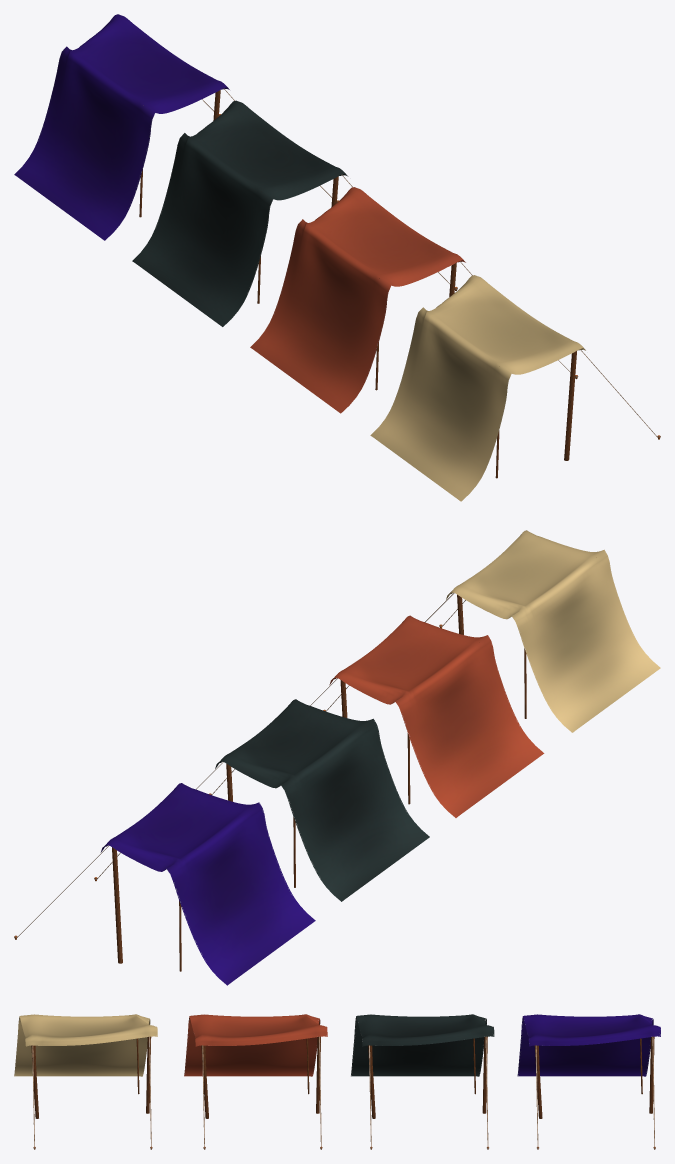
File: TENDA 1.fbx
The picture shows the model from 3 angles, top to bottom: view 1: azimuth 30°, elevation 25°; view 2: azimuth 150°, elevation 25°; view 3: azimuth 270°, elevation 25°; orthographic projection. The views are drawn at different scales.
Visible parts, largest first — view 1: pano tenda, pano tenda.003, pano tenda.002, pano tenda.001, vigas.001; view 2: pano tenda.001, pano tenda.003, pano tenda.002, pano tenda, vigas.002; view 3: pano tenda.001, pano tenda, pano tenda.003, pano tenda.002, vigas.002, vigas, vigas.003, vigas.001, cordas.001, cordas, cordas.003, cordas.002.
Boxes of the visible parts, x1,y1,x2,y2 form: pano tenda: (250,187,465,413); pano tenda.003: (132,100,348,326); pano tenda.002: (14,14,229,240); pano tenda.001: (370,275,585,501); vigas.001: (495,351,576,478); pano tenda.001: (446,530,660,732); pano tenda.003: (215,699,429,901); pano tenda.002: (100,783,315,985); pano tenda: (329,615,544,817); vigas.002: (112,809,251,971); pano tenda.001: (14,1014,157,1076); pano tenda: (184,1014,327,1076); pano tenda.003: (351,1014,494,1076); pano tenda.002: (517,1014,660,1076); vigas.002: (534,1036,654,1118); vigas: (201,1036,320,1118); vigas.003: (368,1036,487,1118); vigas.001: (31,1036,151,1118); cordas.001: (32,1036,152,1148); cordas: (202,1036,322,1148); cordas.003: (369,1036,489,1148); cordas.002: (535,1036,655,1148).
Bounding box in the file's own units: 15.72 × 8.86 × 58.22.
7 materials, 7 textured.
